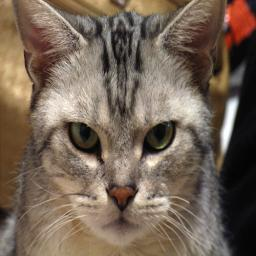catnose: (107, 184, 137, 211)
